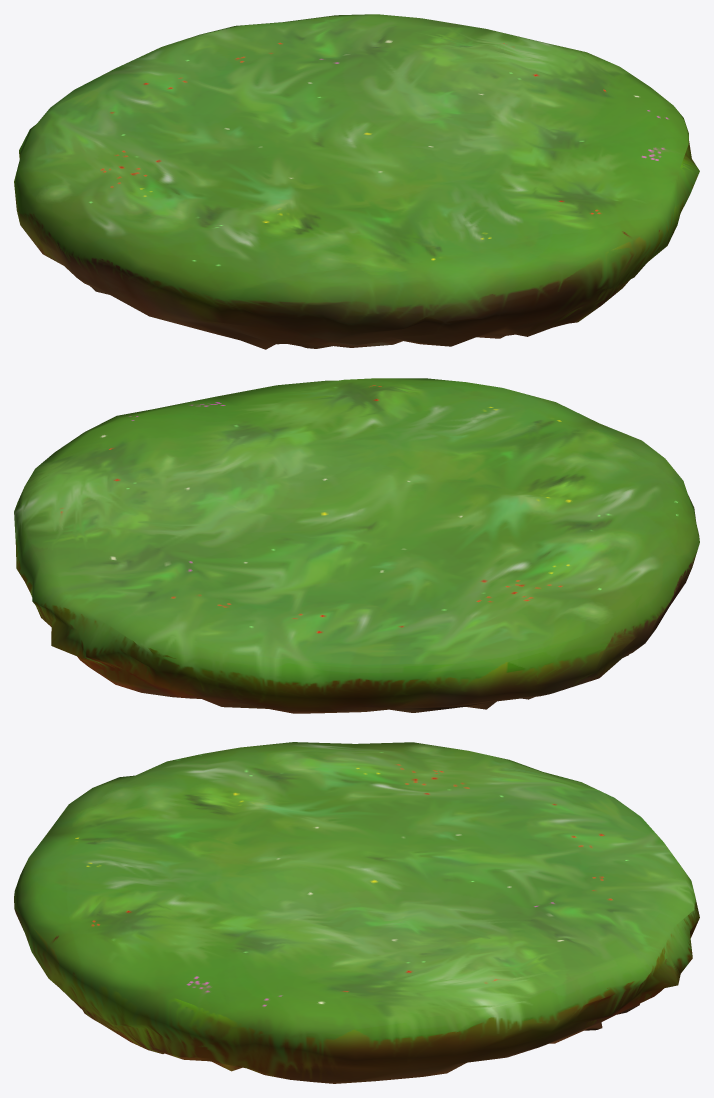
Rendered from rocaPiso.fbx.
3 renders of one model, top to bottom at view 1: azimuth 30°, elevation 25°; view 2: azimuth 150°, elevation 25°; view 3: azimuth 270°, elevation 25°, orthographic. The views are drawn at different scales.
Parts seen in each view (by area): view 1: Icosphere; view 2: Icosphere; view 3: Icosphere.
Part boxes in pixels (bbox=[...]): Icosphere: bbox=[14, 14, 699, 349]; Icosphere: bbox=[14, 378, 699, 713]; Icosphere: bbox=[14, 742, 699, 1083].
Size of the model in its own units: 313 by 89.81 by 313.
1 material, 1 textured.
